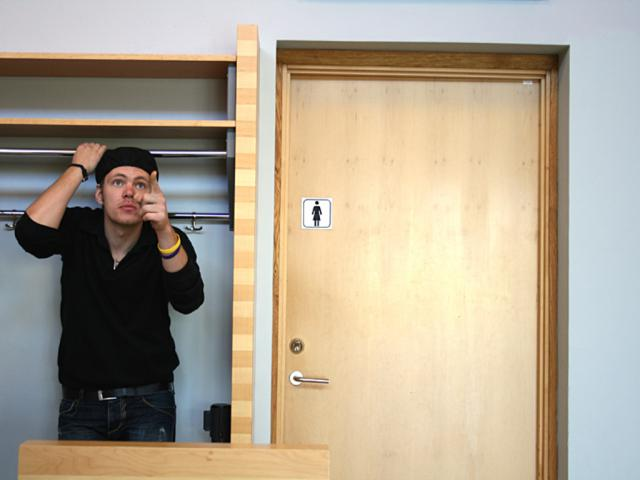Door-handle: (290, 370, 328, 386)
